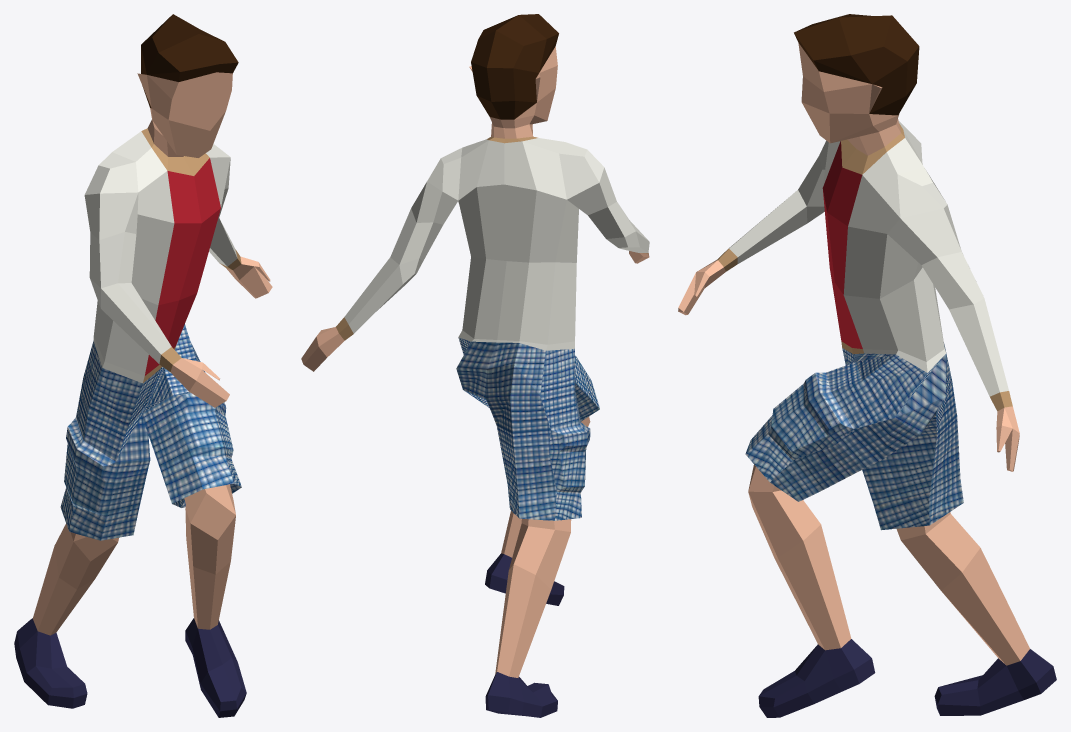
The model's file is SpringBoy.007.glb.
3 views of the same model, side by side, from view 1: azimuth 30°, elevation 25°; view 2: azimuth 150°, elevation 25°; view 3: azimuth 270°, elevation 25° (orthographic). The views are drawn at different scales.
Visible parts, largest first — view 1: SpringBoy.007; view 2: SpringBoy.007; view 3: SpringBoy.007.
Boxes of the visible parts, left/top/right/bottom form: SpringBoy.007: left=14, top=14, right=272, bottom=717; SpringBoy.007: left=301, top=14, right=649, bottom=717; SpringBoy.007: left=678, top=14, right=1056, bottom=717.
Size of the model in its own units: 0.4971 by 1.22 by 0.571.
1 material, 1 textured.
